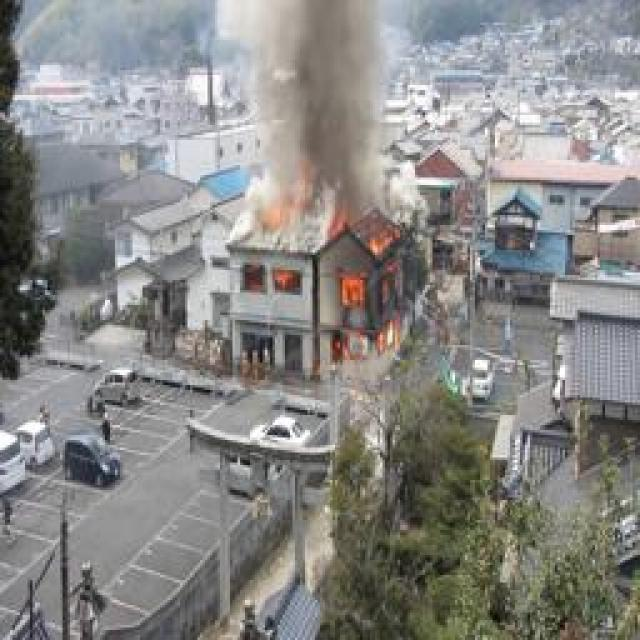Fire: (336, 242, 408, 364), (266, 267, 301, 295)
